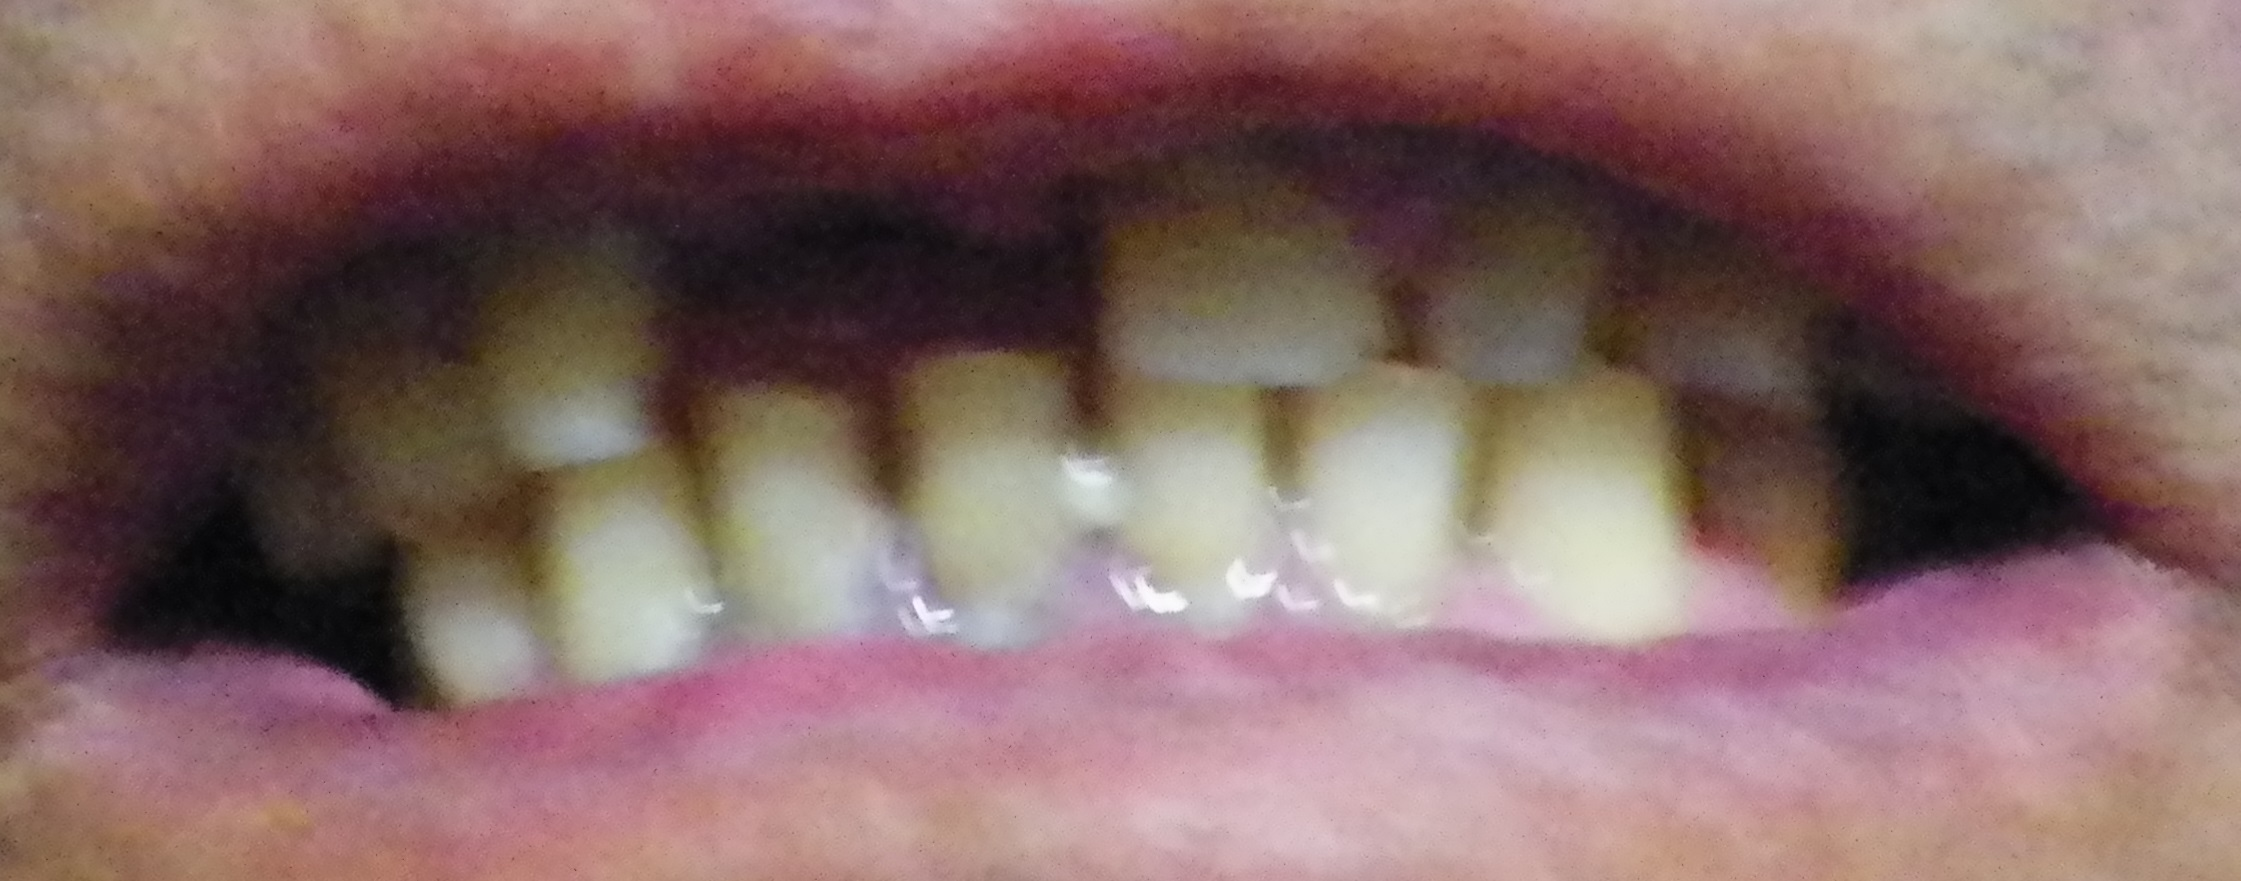boca: (229, 195, 1877, 719)
